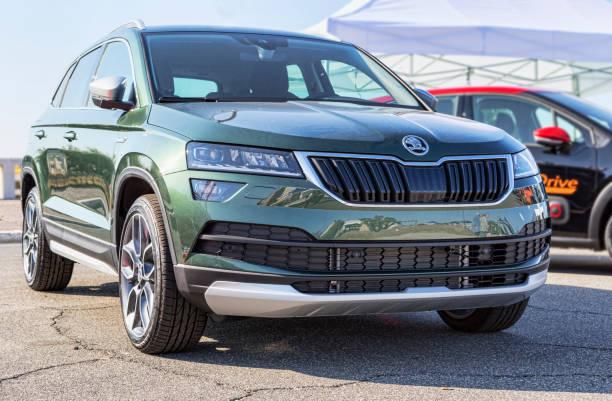skoda: (397, 131, 440, 160)
